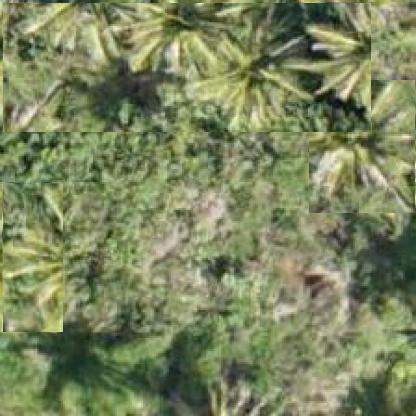coconut tree: (2, 2, 371, 132), (308, 79, 415, 213), (2, 182, 63, 332)
